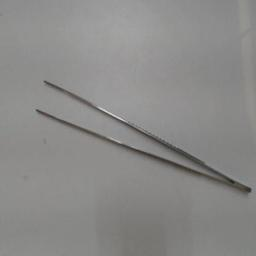DeBakey Dissector: (31, 64, 253, 204)
